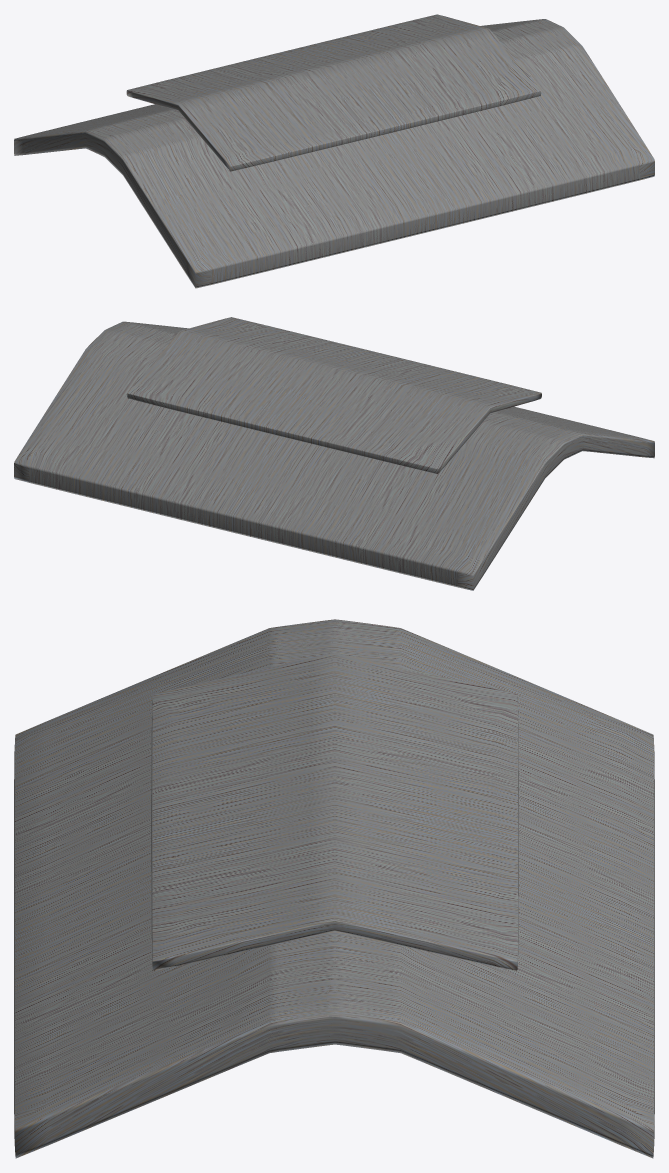
The model's file is stackedRoof.fbx.
3 views of the same model, one above another, from view 1: azimuth 30°, elevation 25°; view 2: azimuth 150°, elevation 25°; view 3: azimuth 270°, elevation 25° (orthographic). The views are drawn at different scales.
Parts seen in each view (by area): view 1: pCube4; view 2: pCube4; view 3: pCube4.
Part boxes in pixels (box(x1,y1,x2,y2)): pCube4: box(14, 14, 654, 288); pCube4: box(14, 317, 654, 590); pCube4: box(14, 619, 654, 1158).
Size of the model in its own units: 69 by 14.38 by 47.29.
